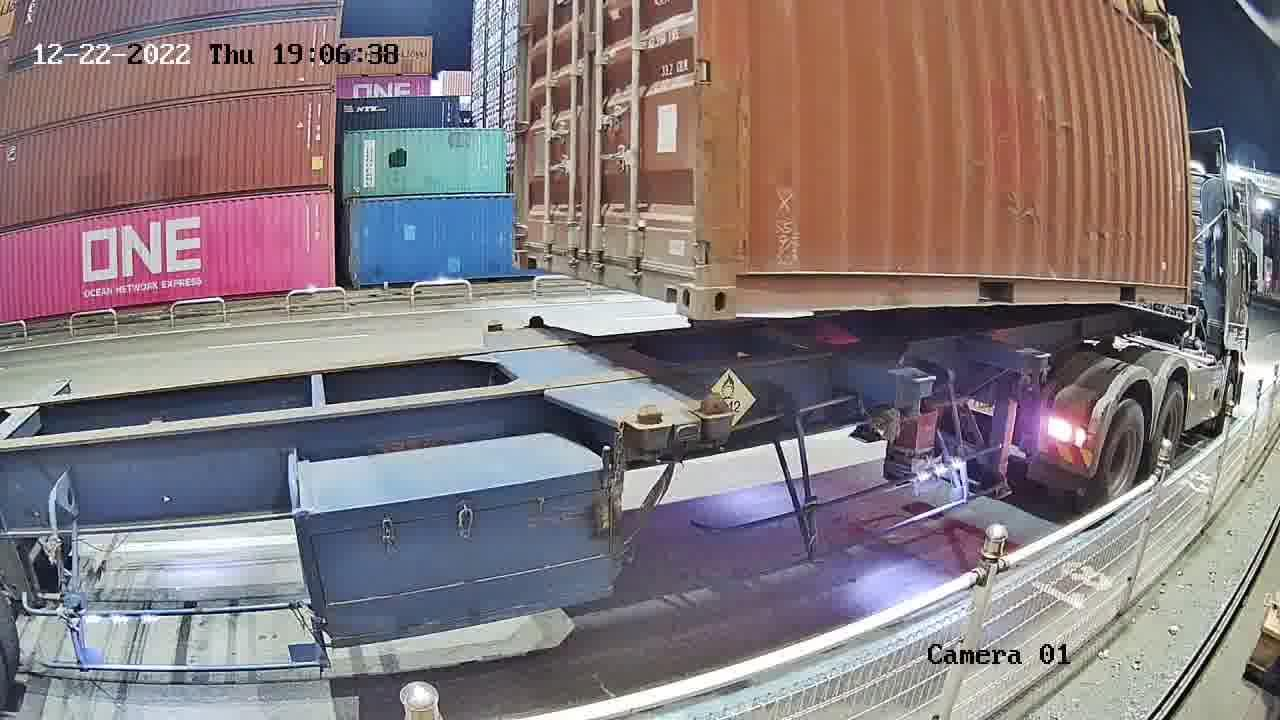Chassis: (484, 331, 672, 455), (527, 327, 732, 440)
Cone: (631, 401, 666, 461), (697, 394, 731, 453), (522, 313, 548, 332), (483, 317, 508, 335)
Hole_L: (701, 253, 770, 321), (511, 229, 543, 273)
Hole_R: (655, 247, 704, 321)
Tire: (1097, 404, 1144, 497), (1153, 385, 1185, 462)
